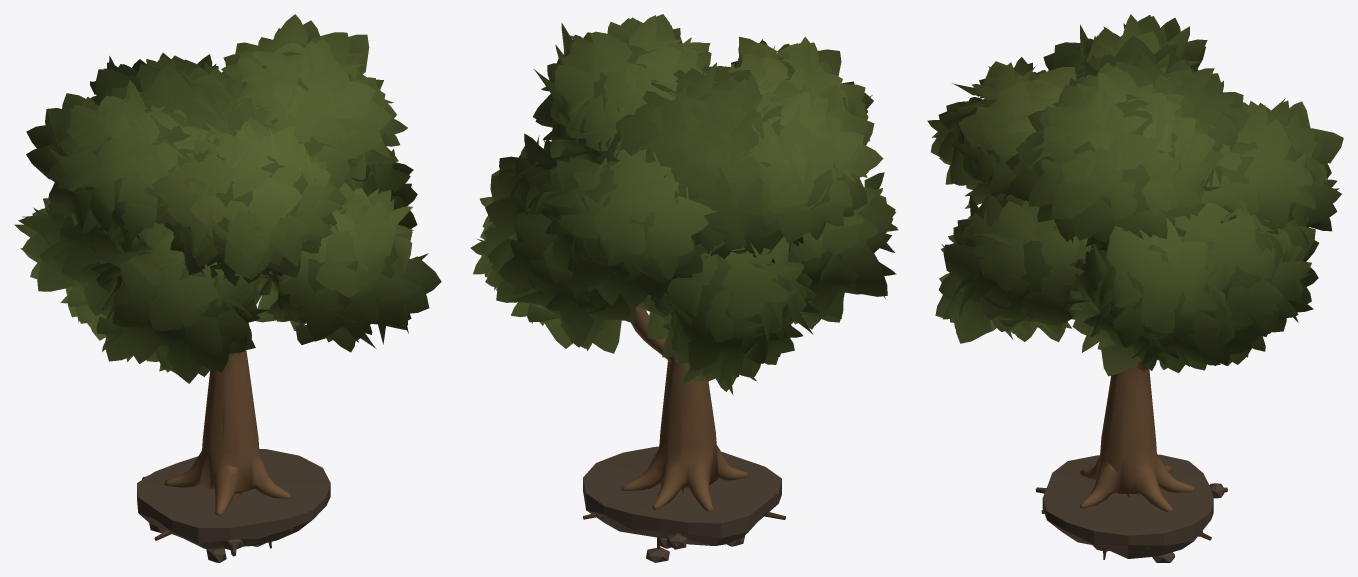
File: oak_006.glb
The picture shows the model from 3 angles, left to right: view 1: azimuth 30°, elevation 25°; view 2: azimuth 150°, elevation 25°; view 3: azimuth 270°, elevation 25°; orthographic projection.
Parts seen in each view (by area): view 1: Oak_006_game.Mesh; view 2: Oak_006_game.Mesh; view 3: Oak_006_game.Mesh.
Boxes of the visible parts, bbox=[...] form: Oak_006_game.Mesh: bbox=[14, 14, 441, 562]; Oak_006_game.Mesh: bbox=[470, 14, 898, 562]; Oak_006_game.Mesh: bbox=[927, 14, 1343, 562].
Size of the model in its own units: 6.38 by 8.4 by 6.26.
6 materials, 1 textured.
